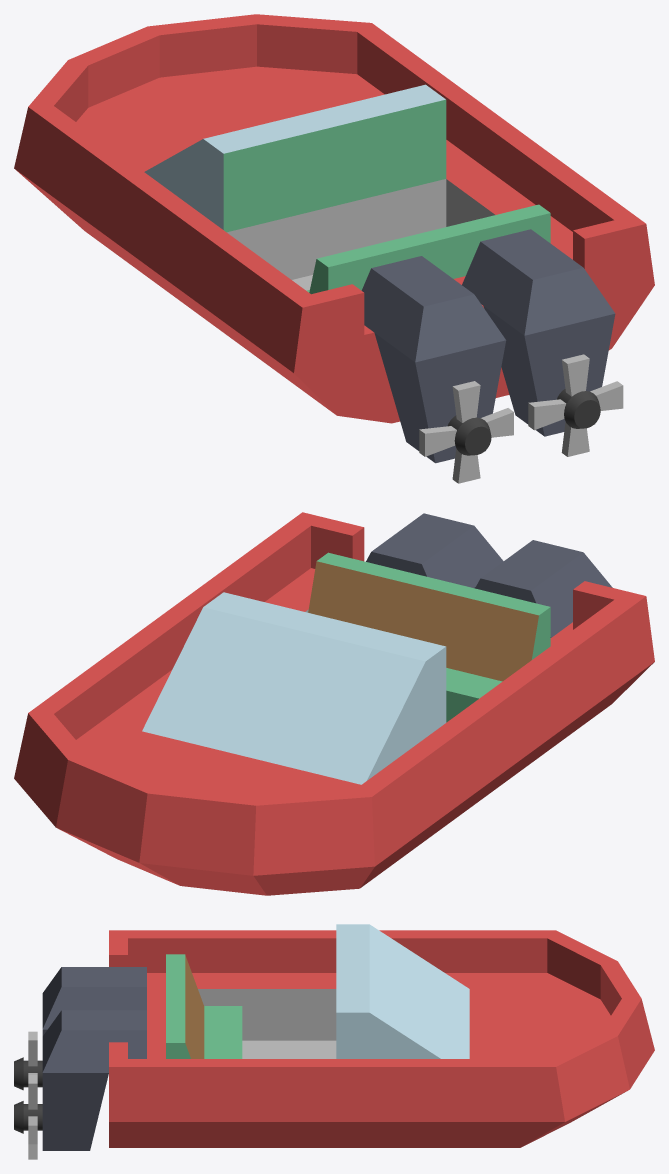
The model's file is boat_011.fbx.
3 views of the same model, one above another, from view 1: azimuth 30°, elevation 25°; view 2: azimuth 150°, elevation 25°; view 3: azimuth 270°, elevation 25° (orthographic). The views are drawn at different scales.
Parts seen in each view (by area): view 1: boat_011, Group (×4); view 2: boat_011, Group (×2); view 3: boat_011, Group (×4).
Part boxes in pixels (<box>): boat_011: <box>14,14,654,423</box>; Group (×4): <box>361,229,623,483</box>; boat_011: <box>14,512,654,895</box>; Group (×2): <box>366,513,612,637</box>; boat_011: <box>109,924,654,1147</box>; Group (×4): <box>14,967,146,1159</box>.
Size of the model in its own units: 17.85 by 9.57 by 33.7.
